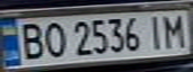2: (69, 17, 93, 57)
3: (106, 16, 127, 54)
5: (90, 16, 109, 55)
6: (121, 15, 145, 53)
B: (15, 20, 48, 61)
I: (142, 13, 169, 51)
M: (160, 11, 190, 48)
O: (39, 19, 69, 60)
